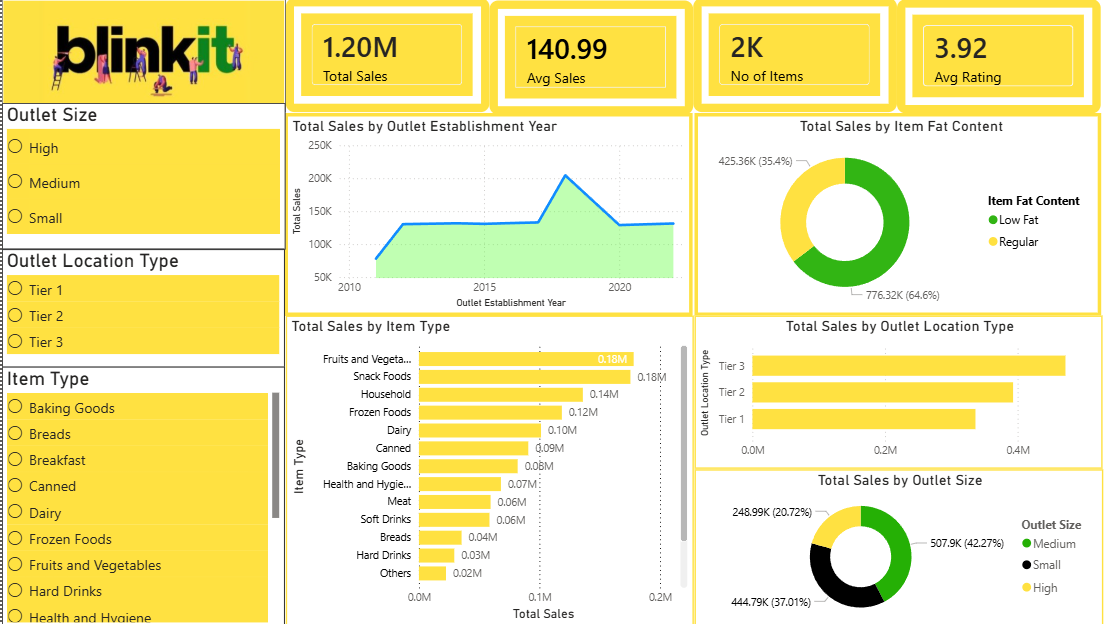

What the dashboard file says about the page in this screenshot:
{"tool":"powerbi","page":{"name":"Page 1","canvas":[1280,720],"ordinal":0},"visuals":[{"type":"cardVisual","fields":{"Data":["BlinkIT Grocery Data.Total Sales"]},"box":[324.3,0,232.9,130],"z":0},{"type":"cardVisual","fields":{"Data":["BlinkIT Grocery Data.Avg Sales"]},"box":[557.1,2.9,232.9,130],"z":1000},{"type":"cardVisual","fields":{"Data":["BlinkIT Grocery Data.No of Items"]},"box":[790,0,232.9,130],"z":2000},{"type":"cardVisual","fields":{"Data":["BlinkIT Grocery Data.Avg Rating"]},"box":[1022.9,1.4,232.9,130],"z":3000},{"type":"donutChart","fields":{"Category":["BlinkIT Grocery Data.Item Fat Content"],"Y":["BlinkIT Grocery Data.Total Sales"]},"box":[791.7,131.7,465,231.7],"z":4000},{"type":"barChart","fields":{"Category":["BlinkIT Grocery Data.Item Type"],"Y":["BlinkIT Grocery Data.Total Sales"]},"box":[325,363.3,466.7,356.7],"z":5000},{"type":"lineChart","fields":{"Category":["BlinkIT Grocery Data.Outlet Establishment Year"],"Y":["BlinkIT Grocery Data.Total Sales"]},"box":[323.3,131.7,466.7,231.7],"z":6000},{"type":"image","box":[0,1.4,324.3,128.6],"z":6001},{"type":"listSlicer","fields":{"Values":["BlinkIT Grocery Data.Outlet Size"]},"box":[0,120,324,167.3],"z":6003},{"type":"listSlicer","fields":{"Values":["BlinkIT Grocery Data.Outlet Location Type"]},"box":[0,286.7,323.3,135],"z":6004},{"type":"listSlicer","fields":{"Values":["BlinkIT Grocery Data.Item Type"]},"box":[0,421.7,323.3,298.3],"z":6005},{"type":"barChart","fields":{"Category":["BlinkIT Grocery Data.Outlet Location Type"],"Y":["BlinkIT Grocery Data.Total Sales"]},"box":[791.7,363.3,466.7,175],"z":6006},{"type":"donutChart","fields":{"Category":["BlinkIT Grocery Data.Outlet Size"],"Y":["BlinkIT Grocery Data.Total Sales"]},"box":[792,538,467,182],"z":6007}]}

Visuals, with their boxes in screenshot pixels (x1, y1, x2, y2), scaled from the page's 1280x720 canvas onto the 1108x624 screenshot:
cardVisual - BlinkIT Grocery Data.Total Sales: [x1=281, y1=0, x2=482, y2=113]
cardVisual - BlinkIT Grocery Data.Avg Sales: [x1=482, y1=3, x2=684, y2=115]
cardVisual - BlinkIT Grocery Data.No of Items: [x1=684, y1=0, x2=885, y2=113]
cardVisual - BlinkIT Grocery Data.Avg Rating: [x1=885, y1=1, x2=1087, y2=114]
donutChart - BlinkIT Grocery Data.Item Fat Content x BlinkIT Grocery Data.Total Sales: [x1=685, y1=114, x2=1088, y2=315]
barChart - BlinkIT Grocery Data.Item Type x BlinkIT Grocery Data.Total Sales: [x1=281, y1=315, x2=685, y2=623]
lineChart - BlinkIT Grocery Data.Outlet Establishment Year x BlinkIT Grocery Data.Total Sales: [x1=280, y1=114, x2=684, y2=315]
image: [x1=0, y1=1, x2=281, y2=113]
listSlicer - BlinkIT Grocery Data.Outlet Size: [x1=0, y1=104, x2=280, y2=249]
listSlicer - BlinkIT Grocery Data.Outlet Location Type: [x1=0, y1=248, x2=280, y2=365]
listSlicer - BlinkIT Grocery Data.Item Type: [x1=0, y1=365, x2=280, y2=623]
barChart - BlinkIT Grocery Data.Outlet Location Type x BlinkIT Grocery Data.Total Sales: [x1=685, y1=315, x2=1089, y2=467]
donutChart - BlinkIT Grocery Data.Outlet Size x BlinkIT Grocery Data.Total Sales: [x1=686, y1=466, x2=1090, y2=623]
